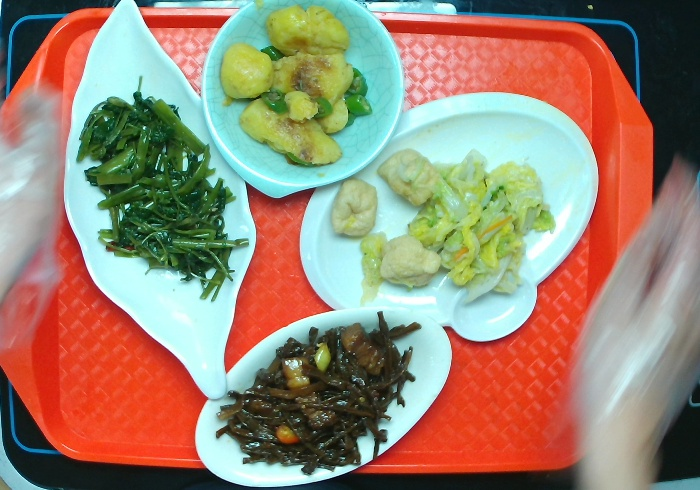RJxy-Bai_Se_Tuo_Yuan: (192, 305, 460, 490)
RJxy-Shu_Ye_Pan: (59, 1, 261, 403)
RJxy-Xiao_Jiao_Yuan_Wan: (196, 1, 407, 203)
RJxy-Zhan_Liao_Pan: (295, 88, 603, 347)
